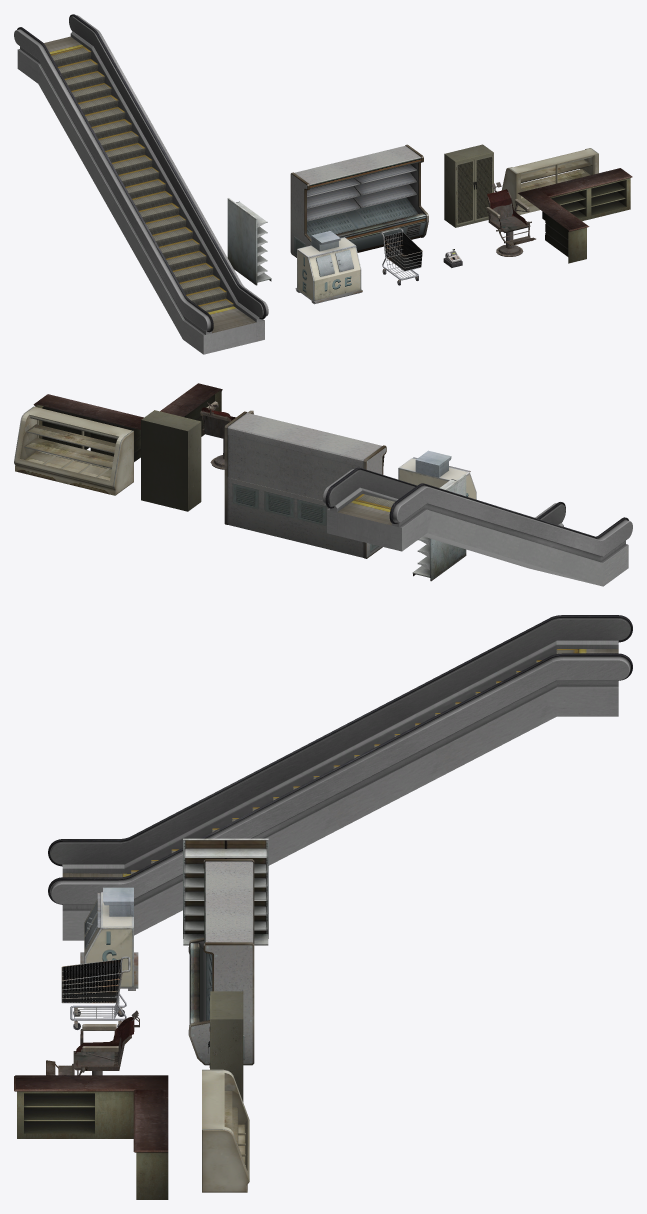
The model's file is source_engine_store_objects.glb.
3 views of the same model, one above another, from view 1: azimuth 30°, elevation 25°; view 2: azimuth 150°, elevation 25°; view 3: azimuth 270°, elevation 25° (orthographic). The views are drawn at different scales.
Visible parts, largest first — view 1: Object_5, Object_10, Object_6, Object_2, Object_11, Object_7, Object_3, Object_9, Object_4; view 2: Object_5, Object_10, Object_7, Object_11, Object_6, Object_2, Object_3, Object_9; view 3: Object_5, Object_6, Object_10, Object_7, Object_3, Object_2, Object_4, Object_11, Object_9.
Part boxes in pixels (x1,y1,x2,y2): Object_5: (14, 14, 268, 354); Object_10: (290, 144, 428, 257); Object_6: (518, 168, 632, 263); Object_2: (295, 231, 362, 304); Object_11: (444, 144, 493, 227); Object_7: (501, 148, 598, 214); Object_3: (227, 198, 271, 285); Object_9: (486, 182, 535, 256); Object_4: (381, 228, 422, 285); Object_5: (322, 467, 632, 586); Object_10: (224, 411, 386, 558); Object_7: (14, 406, 133, 495); Object_11: (141, 410, 201, 511); Object_6: (33, 383, 222, 461); Object_2: (398, 450, 476, 499); Object_3: (412, 474, 466, 581); Object_9: (200, 401, 253, 469); Object_5: (48, 615, 632, 940); Object_6: (14, 1075, 168, 1199); Object_10: (188, 859, 254, 1065); Object_7: (202, 1069, 249, 1192); Object_3: (183, 838, 268, 945); Object_2: (80, 887, 138, 990); Object_4: (61, 956, 130, 1029); Object_11: (208, 991, 243, 1101); Object_9: (46, 1010, 139, 1075).
Bounding box in the file's own units: 1447 × 578 × 1145.
10 materials, 10 textured.
